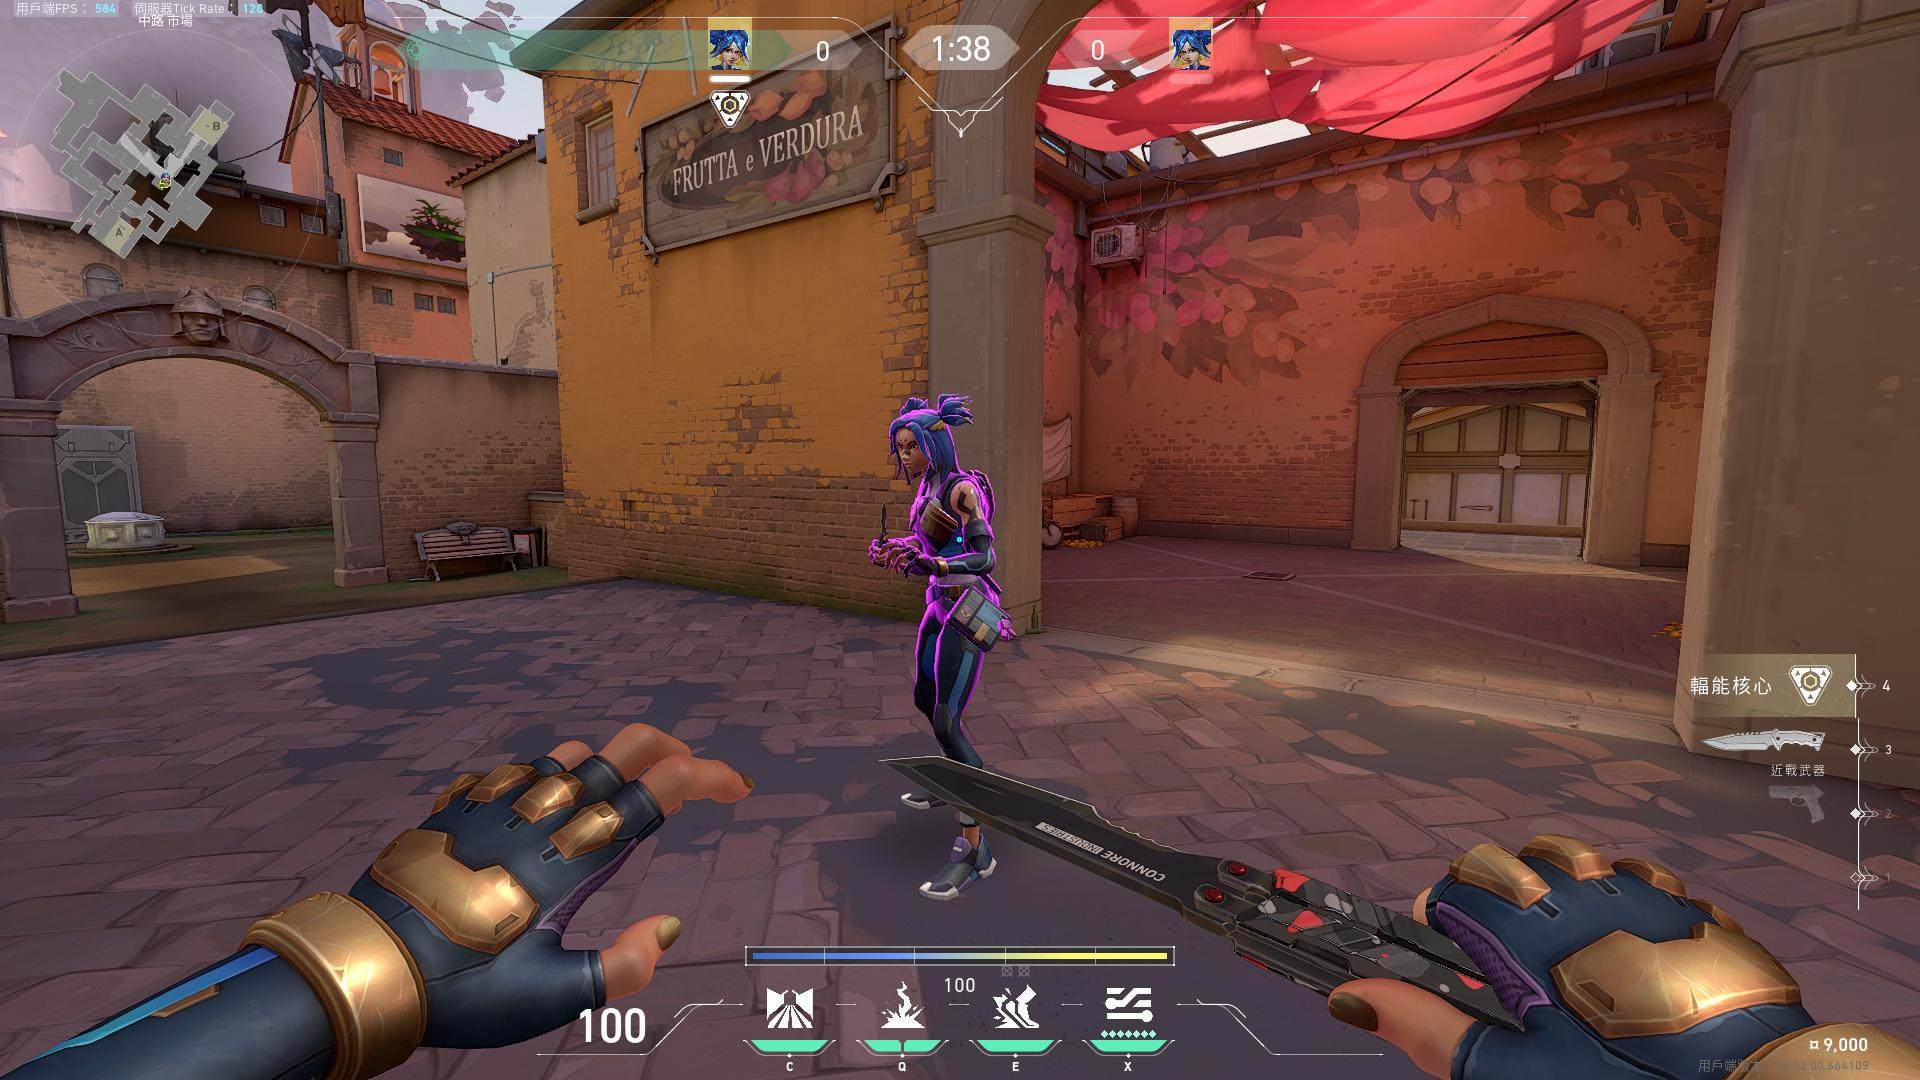enemyBody: (919, 496, 996, 636)
enemyHead: (887, 425, 956, 479)
